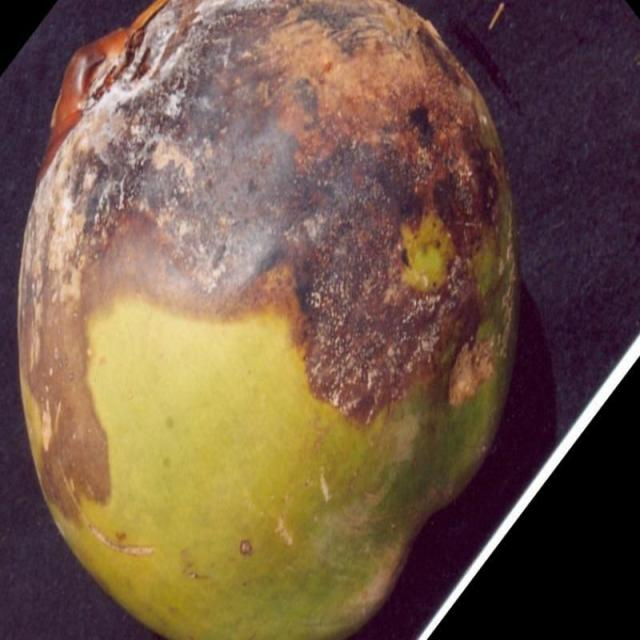damaged: (15, 0, 523, 639)
